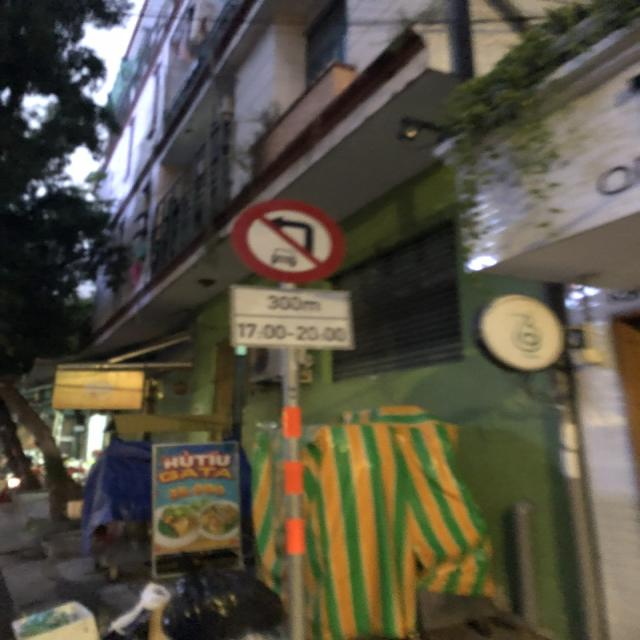Bien bao cam xe o to re trai: (219, 197, 352, 284)
